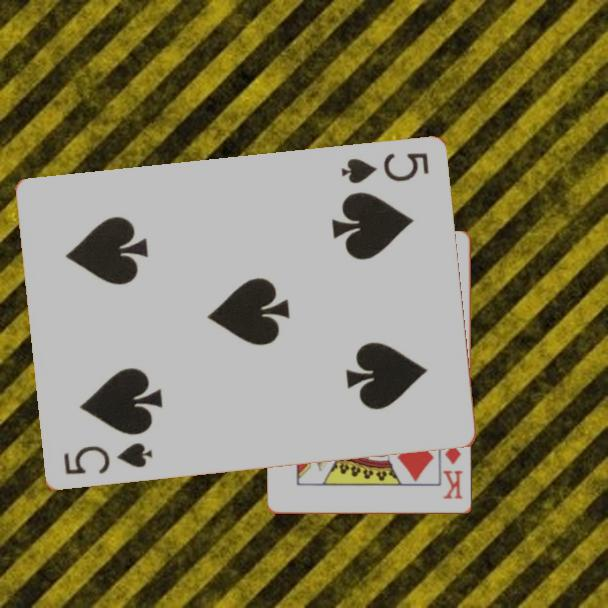d13: (440, 441, 465, 502)
s05: (59, 439, 155, 478), (337, 149, 431, 187)
